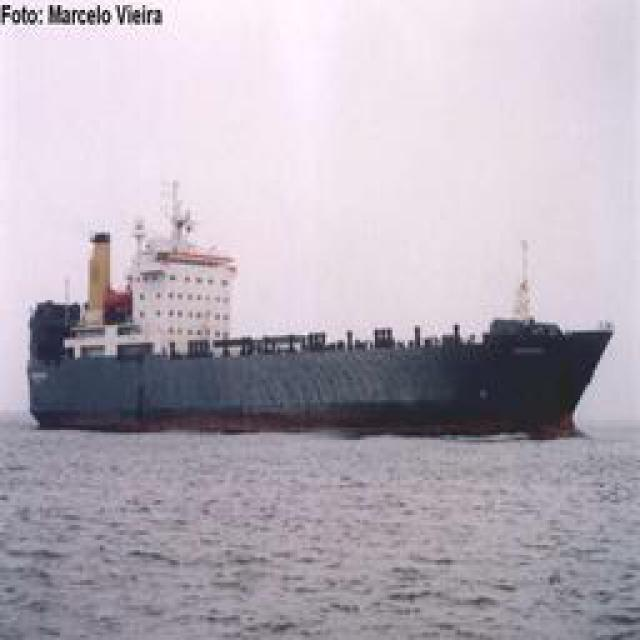Ship: (18, 168, 629, 453)
